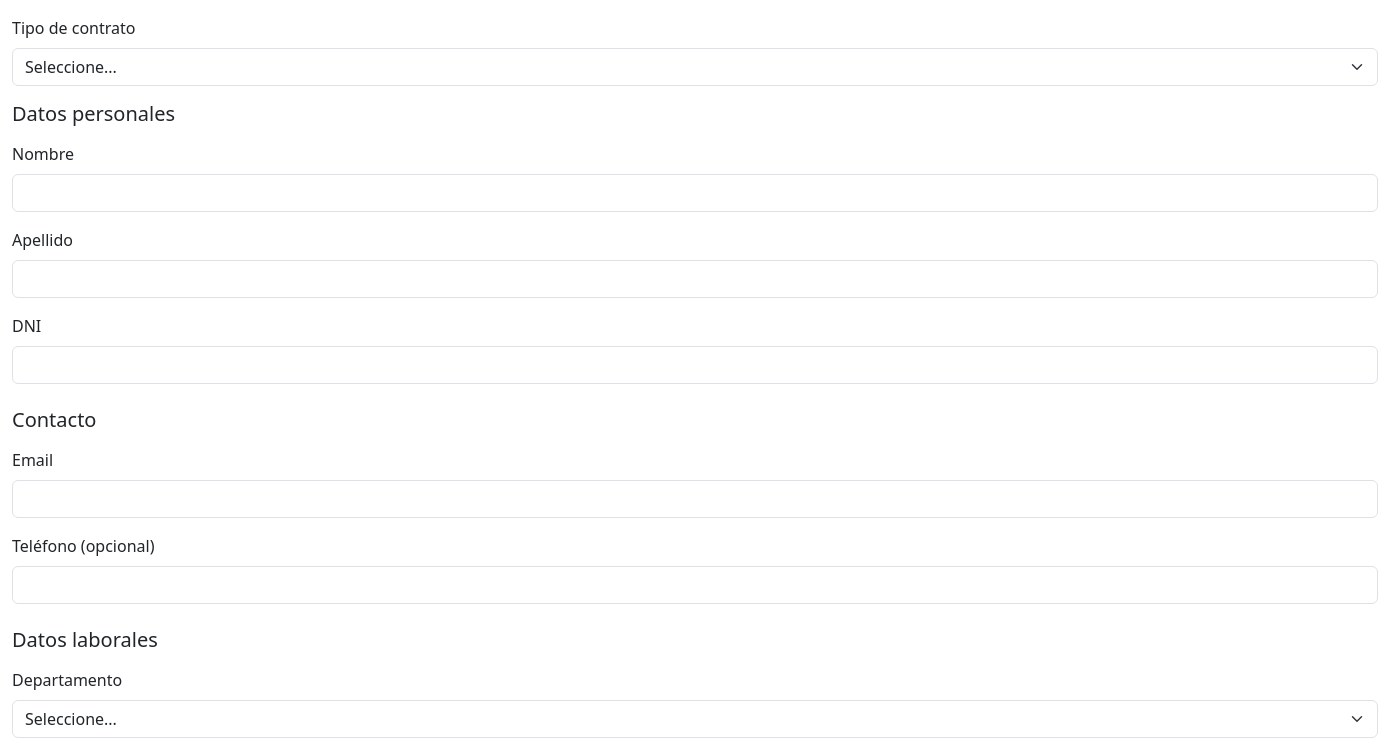
EMPLEADO muestra salario, fechas y porcentaje de aportes
This screenshot has width=1390, height=744.
Select "EMPLEADO" in the dropdown labelled "Tipo de contrato". click: (695, 67)
box: [12,48,1378,86]
(page scrolled)
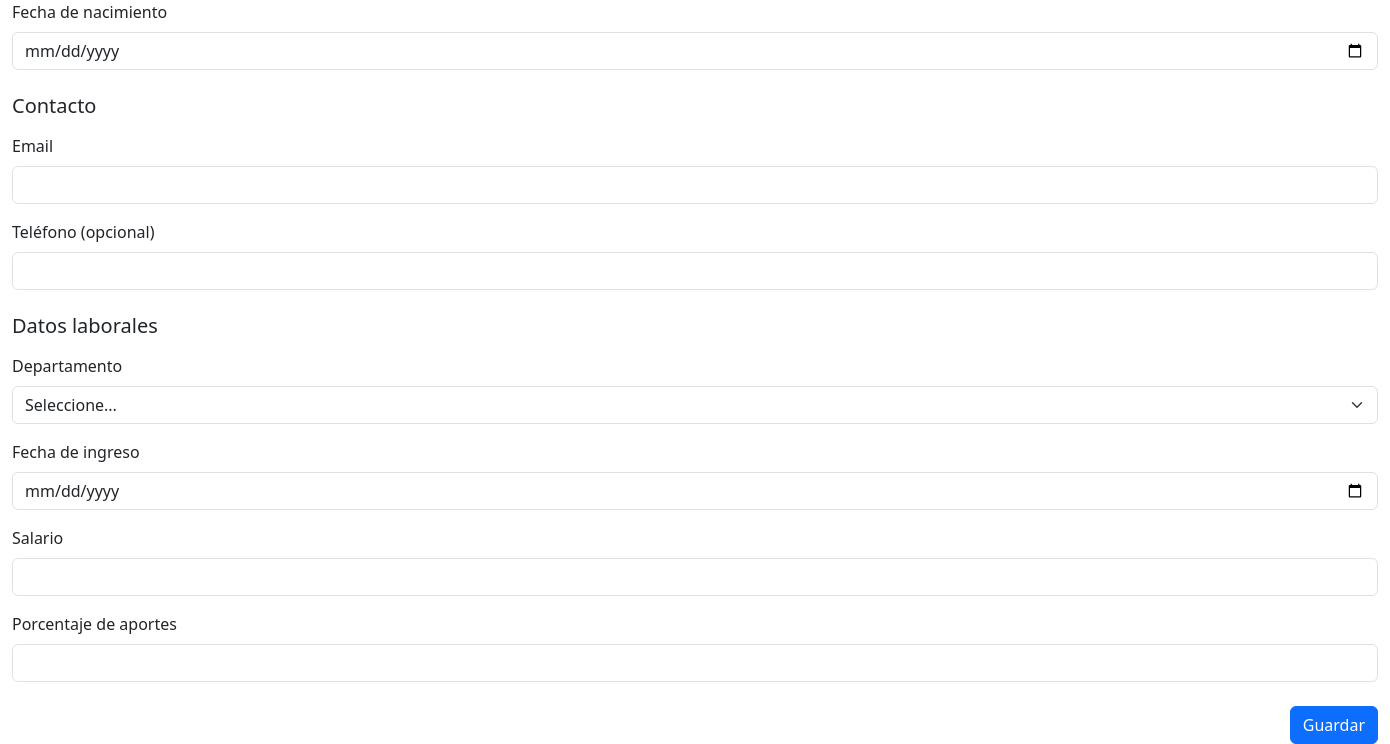
Expected: the date field labelled "Fecha de nacimiento" is shown, [12,32,1378,70]
Expected: the date field labelled "Fecha de ingreso" is shown, [12,472,1378,510]
Expected: the number field labelled "Salario" is shown, [12,558,1378,596]
